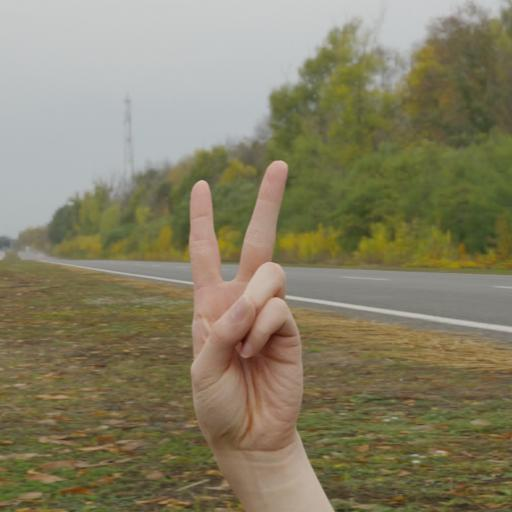V: (167, 152, 316, 502)
